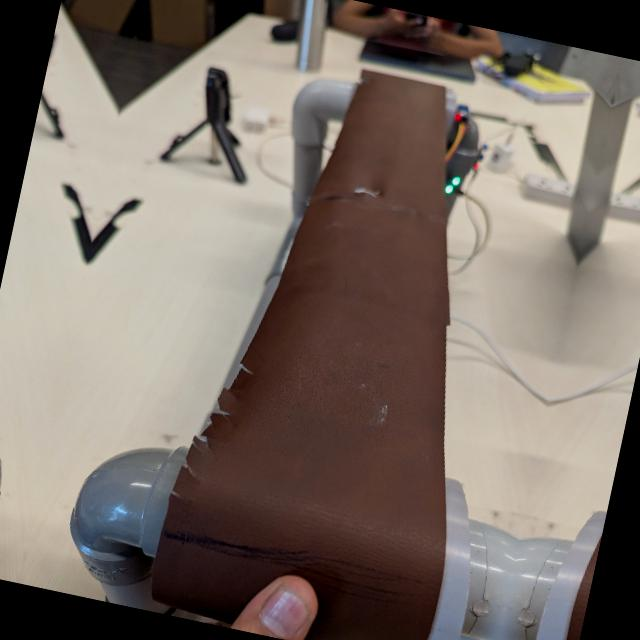joint_damage: (159, 338, 265, 520), (337, 161, 416, 221)
